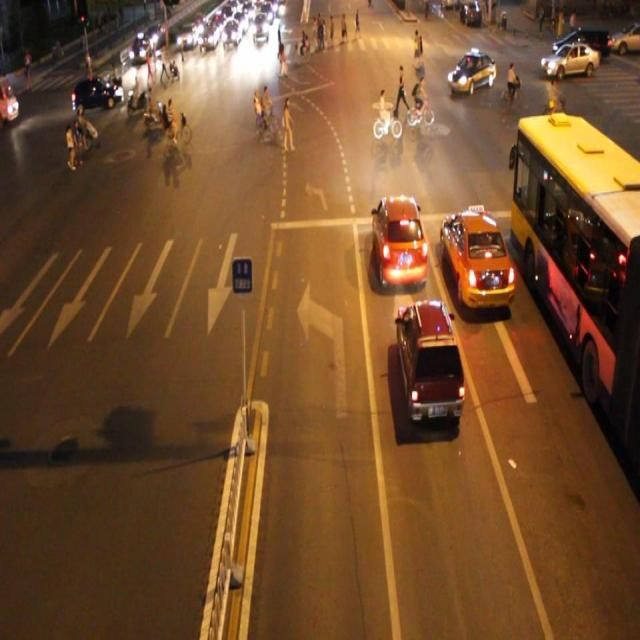car: (395, 297, 466, 422), (440, 204, 518, 308), (373, 192, 429, 288), (445, 50, 495, 96), (72, 76, 124, 112)
van: (511, 116, 640, 468)
